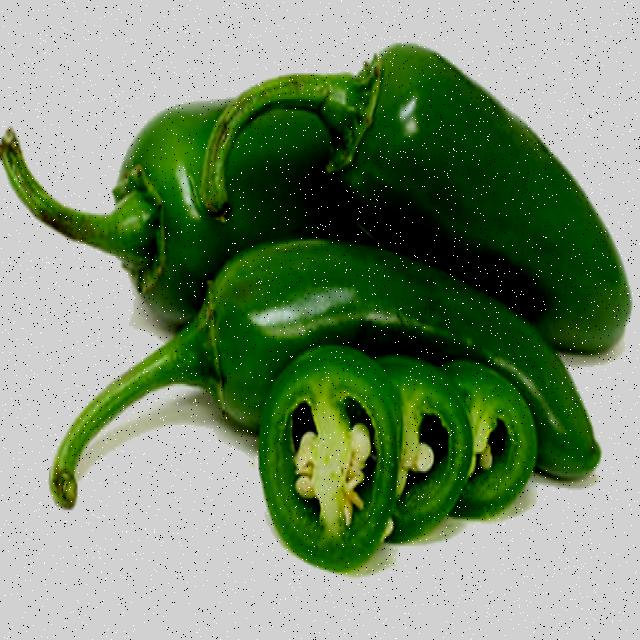Chili Pepper: (135, 70, 572, 373), (269, 351, 538, 559)
